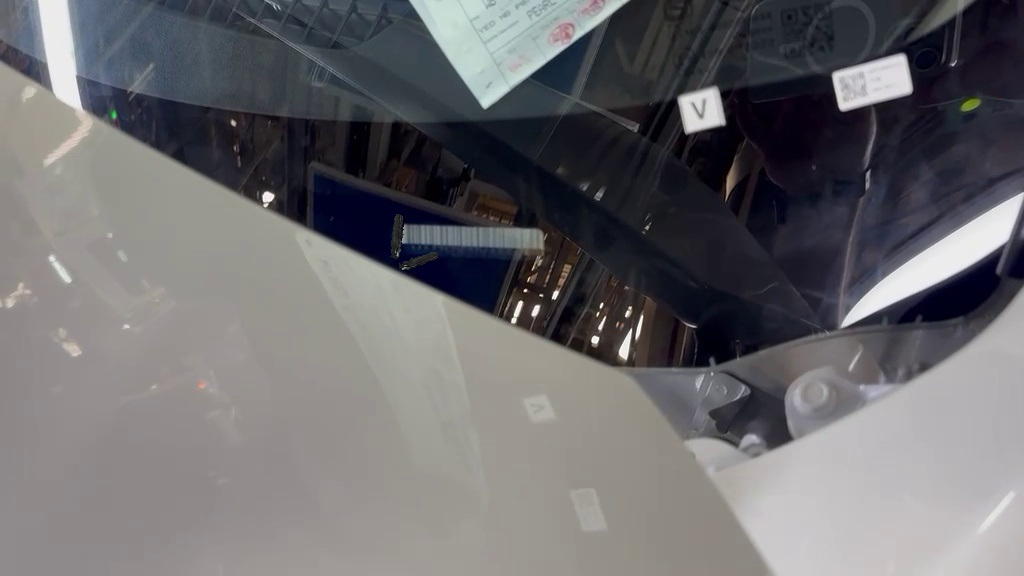hinge: (377, 207, 582, 271)
